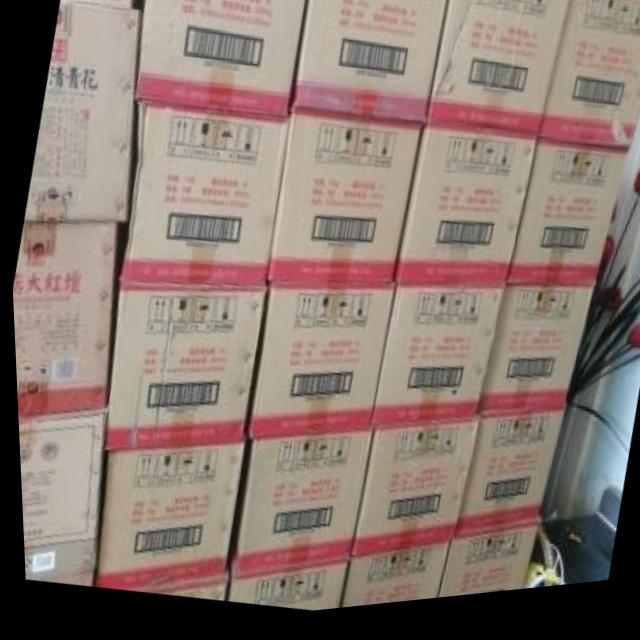box: (117, 102, 289, 294), (261, 111, 420, 294), (101, 280, 264, 451), (21, 7, 142, 224), (388, 128, 534, 298), (239, 290, 394, 445), (10, 221, 127, 418), (427, 0, 575, 152), (88, 450, 239, 594), (133, 0, 307, 124), (224, 437, 370, 581), (287, 0, 449, 128), (366, 295, 502, 437), (344, 426, 478, 566), (502, 154, 627, 298), (534, 0, 640, 164), (15, 408, 105, 588), (473, 298, 591, 425), (448, 419, 562, 549), (334, 549, 446, 615), (431, 535, 533, 607), (219, 562, 344, 617), (131, 580, 223, 605), (59, 0, 144, 13)
